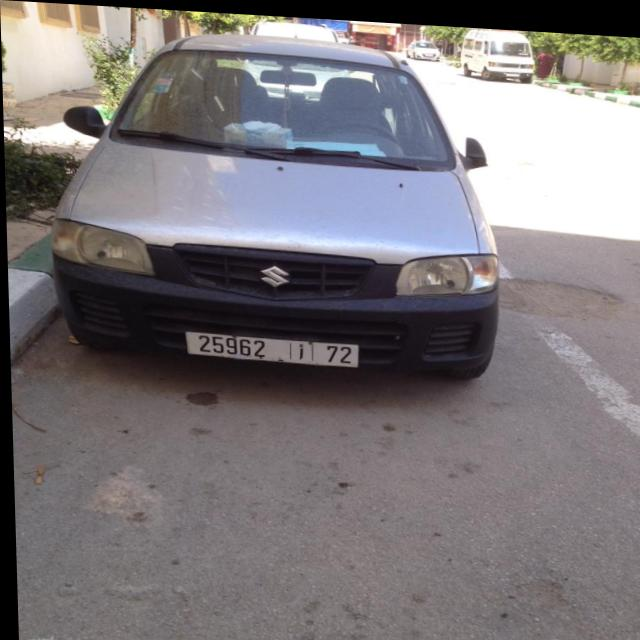License-Plate: (184, 330, 356, 363)
